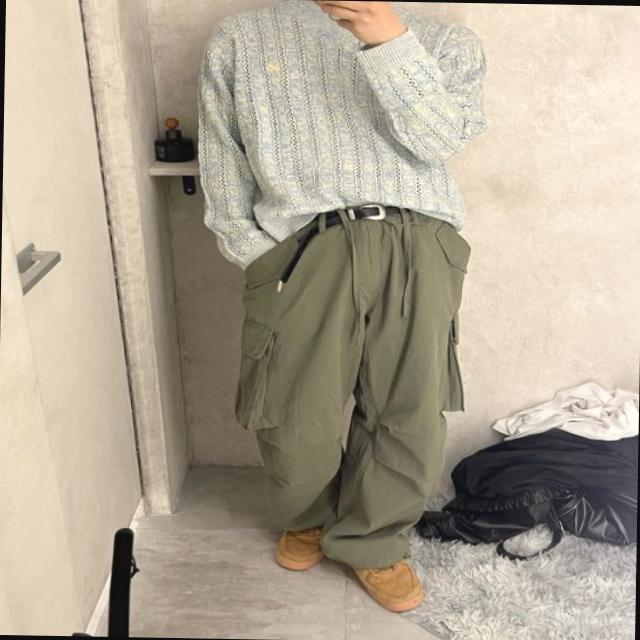cottonpants: (233, 204, 465, 573)
sweater: (191, 0, 488, 271)
